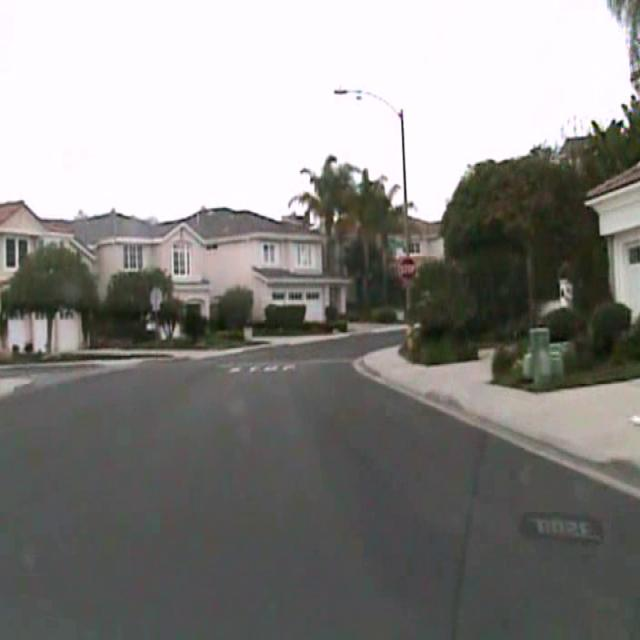stop: (398, 255, 417, 282)
